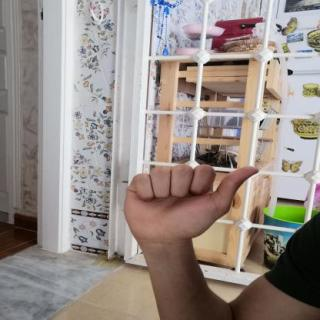DAD: (115, 156, 266, 249)
